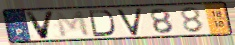8: (149, 7, 176, 35), (179, 6, 204, 34)
D: (87, 9, 117, 38)
M: (54, 10, 92, 38)
V: (23, 10, 58, 41), (115, 7, 143, 37)
